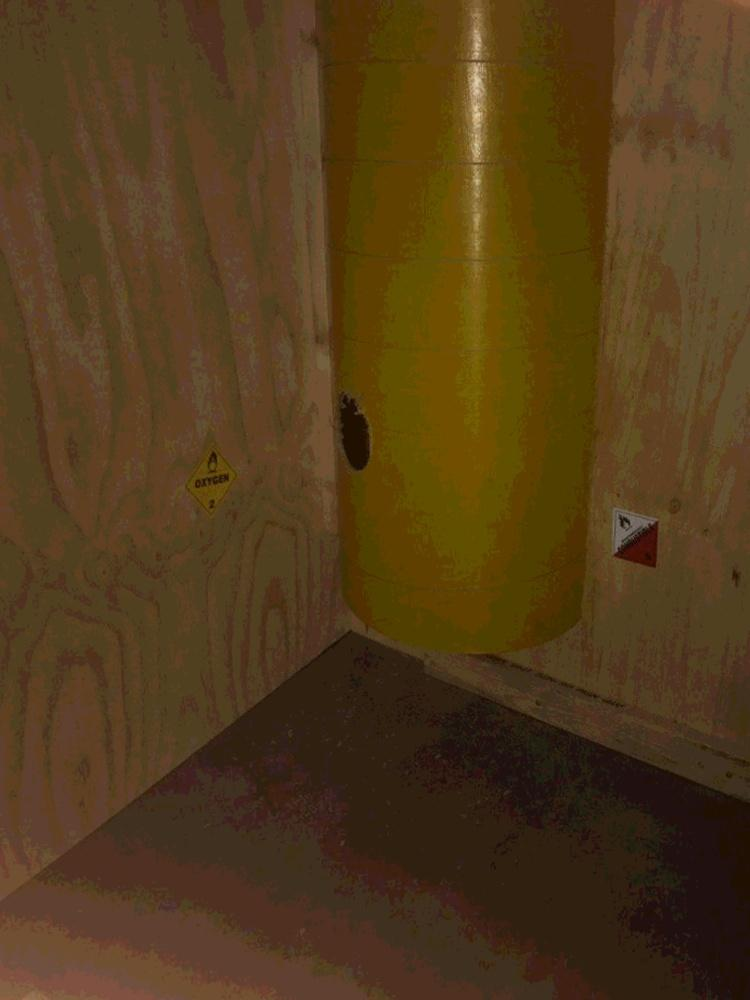oxidizer: (179, 441, 245, 522)
spontaneously-combustible: (606, 505, 664, 573)
